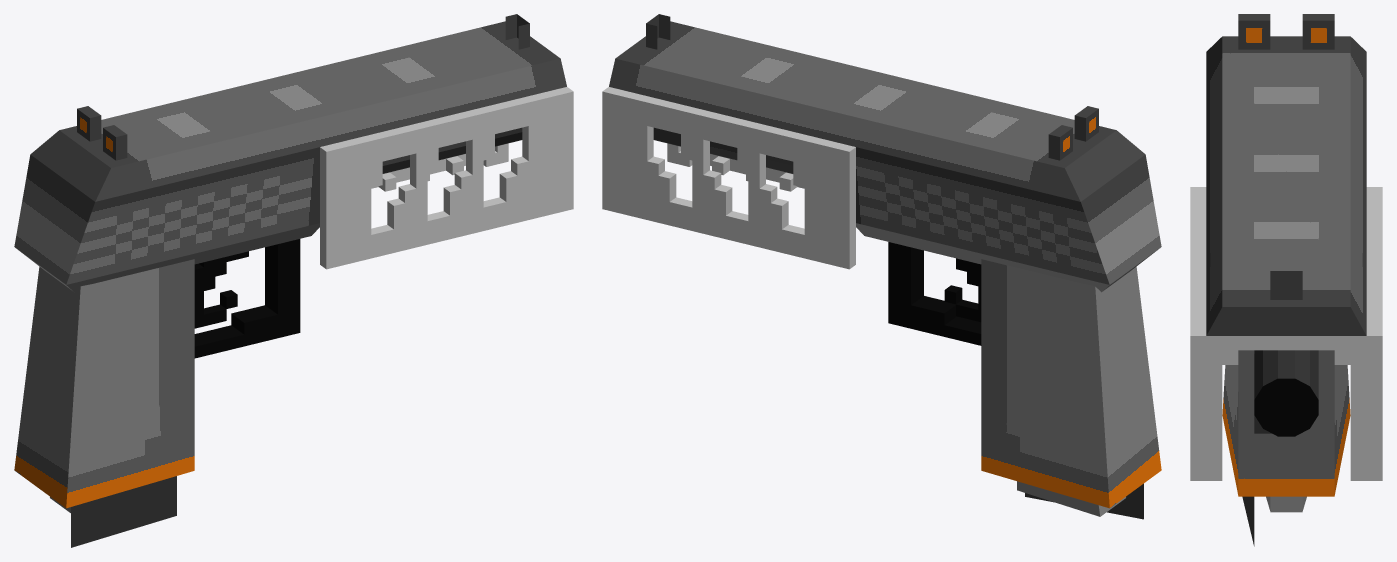
Rendered from pistolfixed.dae.
The picture shows the model from 3 angles, left to right: view 1: azimuth 30°, elevation 25°; view 2: azimuth 150°, elevation 25°; view 3: azimuth 270°, elevation 25°; orthographic projection. The views are drawn at different scales.
Parts seen in each view (by area): view 1: cuboid (×20), cylinder; view 2: cuboid (×21), cylinder; view 3: cuboid (×18), cylinder.
Boxes of the visible parts, x1,y1,x2,y2 form: cuboid (×20): [14, 14, 573, 547]; cylinder: [382, 127, 522, 173]; cuboid (×21): [602, 14, 1161, 519]; cylinder: [653, 127, 793, 173]; cuboid (×18): [1190, 14, 1382, 546]; cylinder: [1254, 350, 1318, 436].
Size of the model in its own units: 0.2875 by 0.2125 by 0.075.
